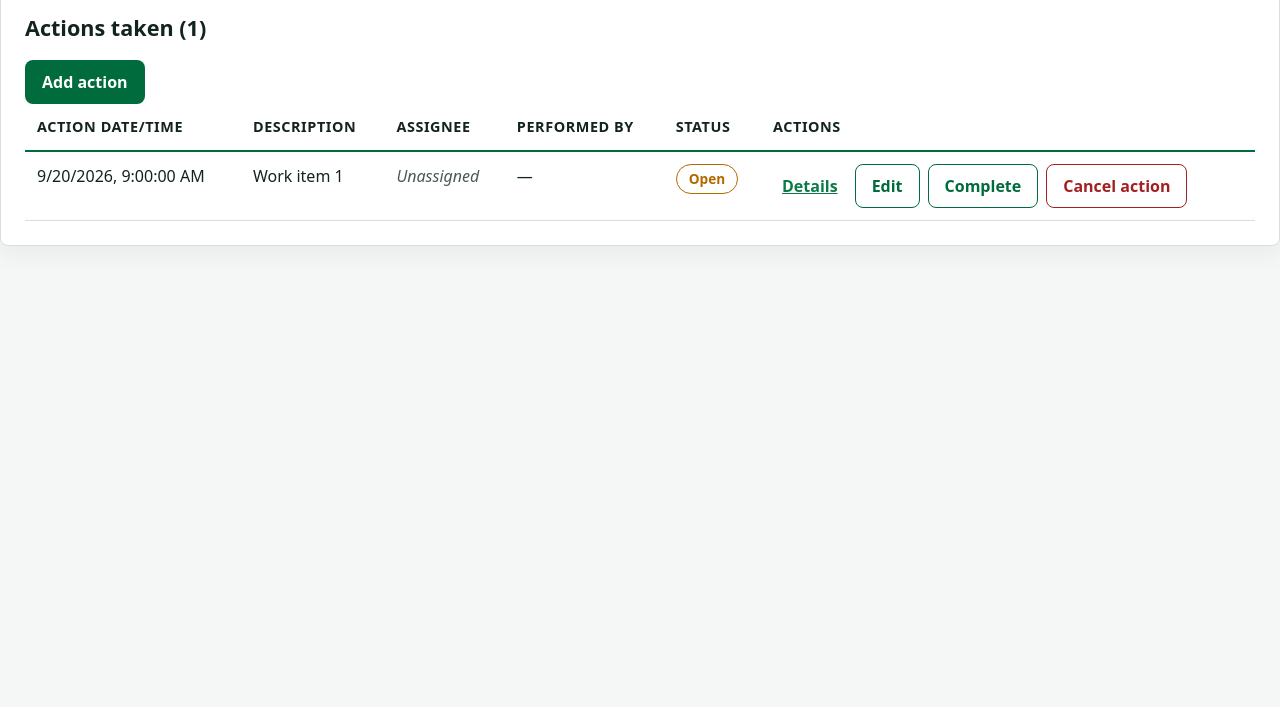
Test: UI-01 the list › shows a cleared assignee as Unassigned, and its Edit starts with the field empty and required
Click the button "Edit": (887, 186) [855,164,920,208]
(page scrolled)
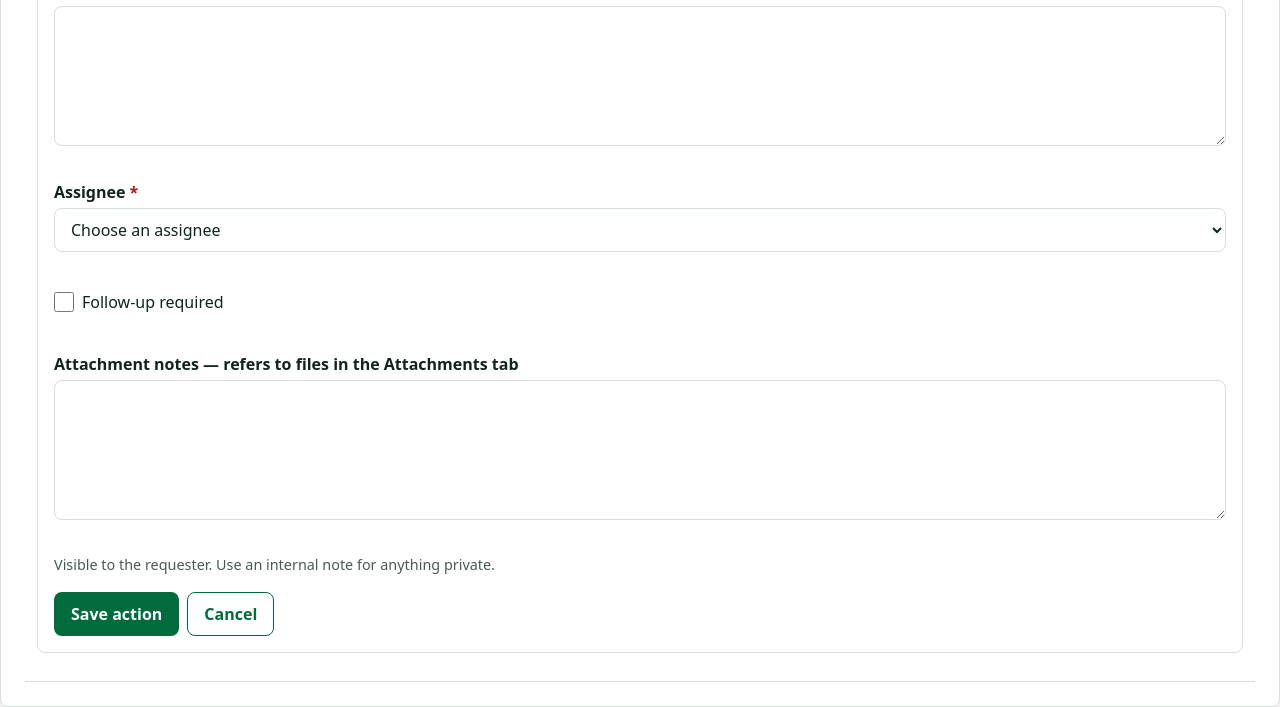
Now the dropdown labelled "Assignee*" shows "Choose an assignee", box [54,208,1226,252]
Click the button "Save action": (117, 614) [54,592,179,636]
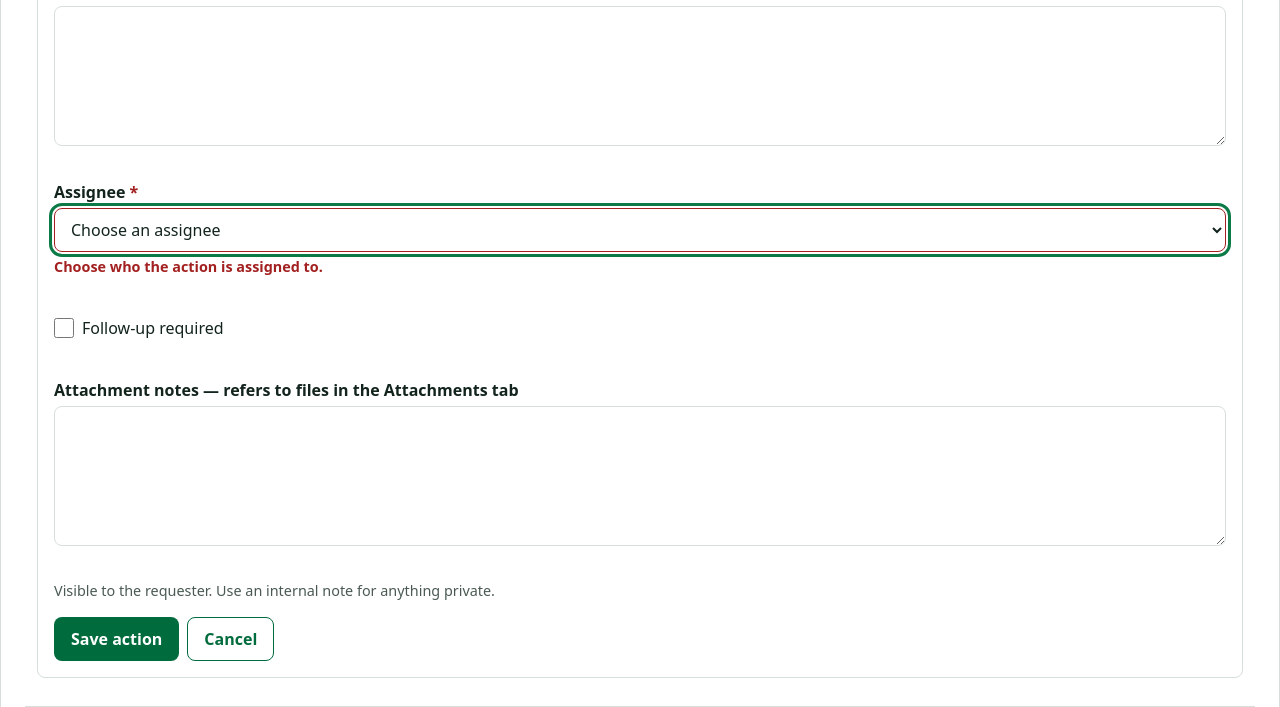
Now the text "Choose who the action is assigned to." is shown, box [54,257,323,276]
